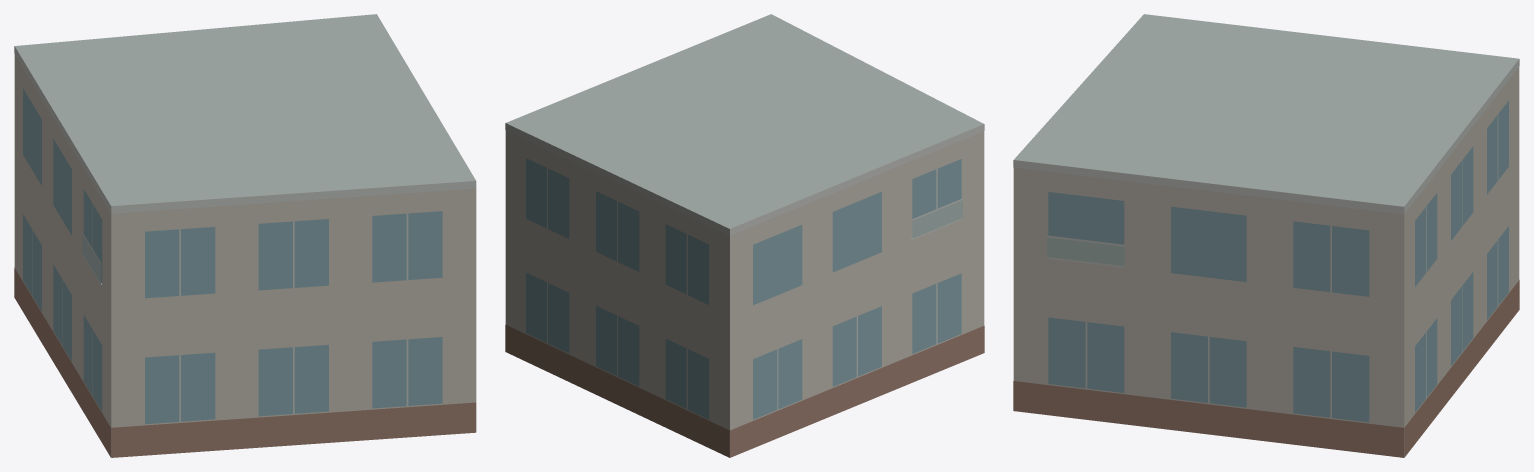
The model's file is survey-upis-32841346.glb.
3 views of the same model, side by side, from view 1: azimuth 30°, elevation 25°; view 2: azimuth 150°, elevation 25°; view 3: azimuth 270°, elevation 25° (orthographic). The views are drawn at different scales.
Parts seen in each view (by area): view 1: survey-upis-32841346.tmp; view 2: survey-upis-32841346.tmp; view 3: survey-upis-32841346.tmp.
Boxes of the visible parts, x1,y1,x2,y2 form: survey-upis-32841346.tmp: (14,14,476,457); survey-upis-32841346.tmp: (505,14,984,457); survey-upis-32841346.tmp: (1013,14,1519,457).
Size of the model in its own units: 13.19 by 8 by 14.62.
